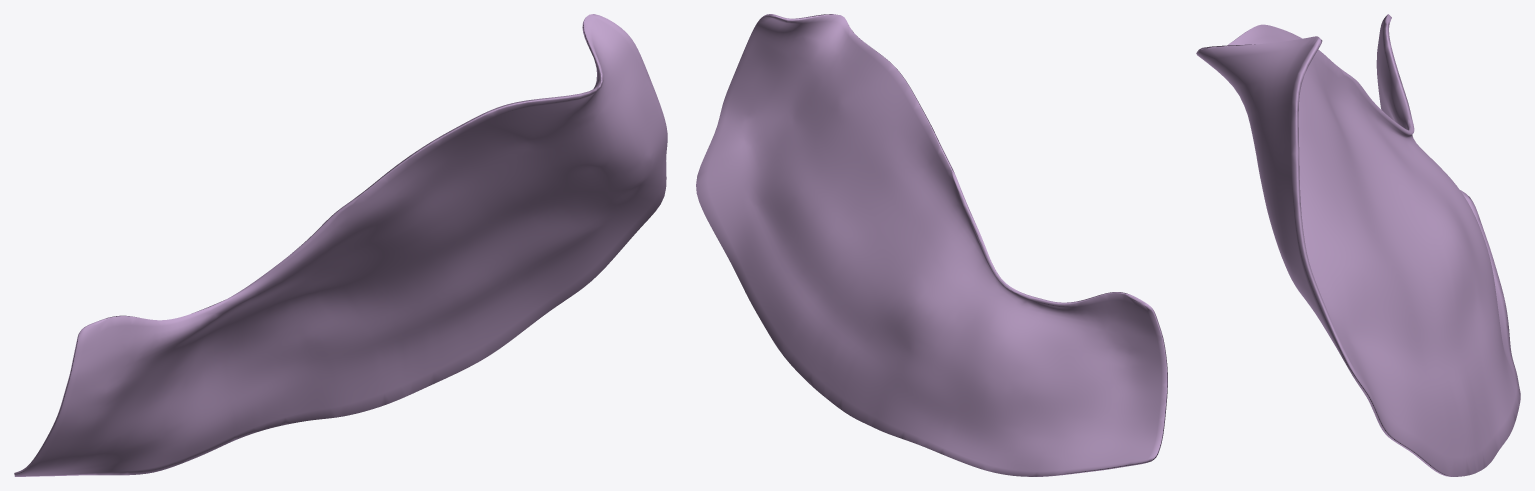
3 views of the same model, side by side, from view 1: azimuth 30°, elevation 25°; view 2: azimuth 150°, elevation 25°; view 3: azimuth 270°, elevation 25° (orthographic). The views are drawn at different scales.
Parts seen in each view (by area): view 1: 结肠系膜; view 2: 结肠系膜; view 3: 结肠系膜.
Boxes of the visible parts, x1,y1,x2,y2 form: 结肠系膜: (14,14,667,476); 结肠系膜: (696,14,1167,476); 结肠系膜: (1196,14,1520,476).
Bounding box in the file's own units: 0.1937 × 0.1294 × 0.0693.
